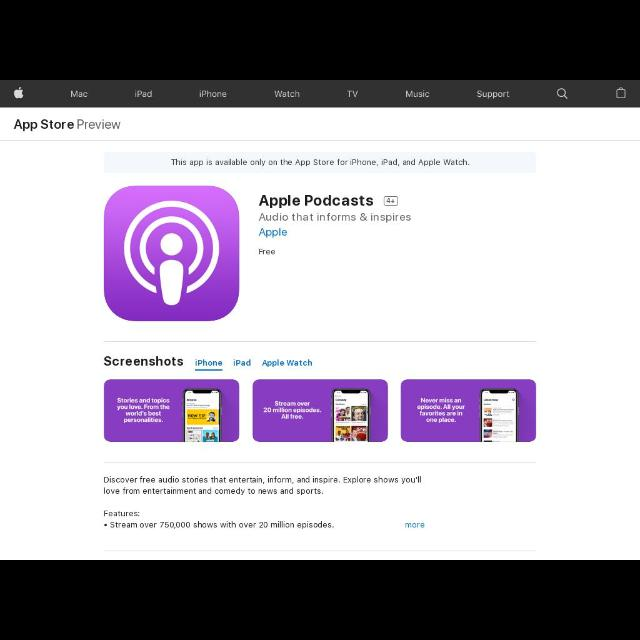icon: (614, 86, 628, 100), (554, 88, 568, 100), (12, 86, 24, 100), (383, 197, 399, 206)
image: (104, 187, 240, 321), (104, 381, 240, 443), (253, 380, 389, 442), (400, 380, 534, 442), (15, 116, 121, 134)
multitab: (1, 81, 639, 107)
text: (104, 476, 422, 496), (171, 158, 471, 168), (110, 520, 334, 530), (260, 212, 412, 225), (258, 194, 374, 210), (103, 356, 183, 368), (263, 359, 313, 367), (476, 89, 509, 99), (104, 509, 140, 518), (272, 89, 302, 99), (200, 90, 228, 100), (403, 90, 431, 100), (260, 228, 286, 238), (194, 359, 223, 367), (232, 358, 252, 368), (258, 247, 276, 256), (134, 90, 152, 98), (70, 90, 86, 98), (404, 522, 424, 528), (346, 89, 358, 99)
toolbar: (1, 108, 639, 140)
